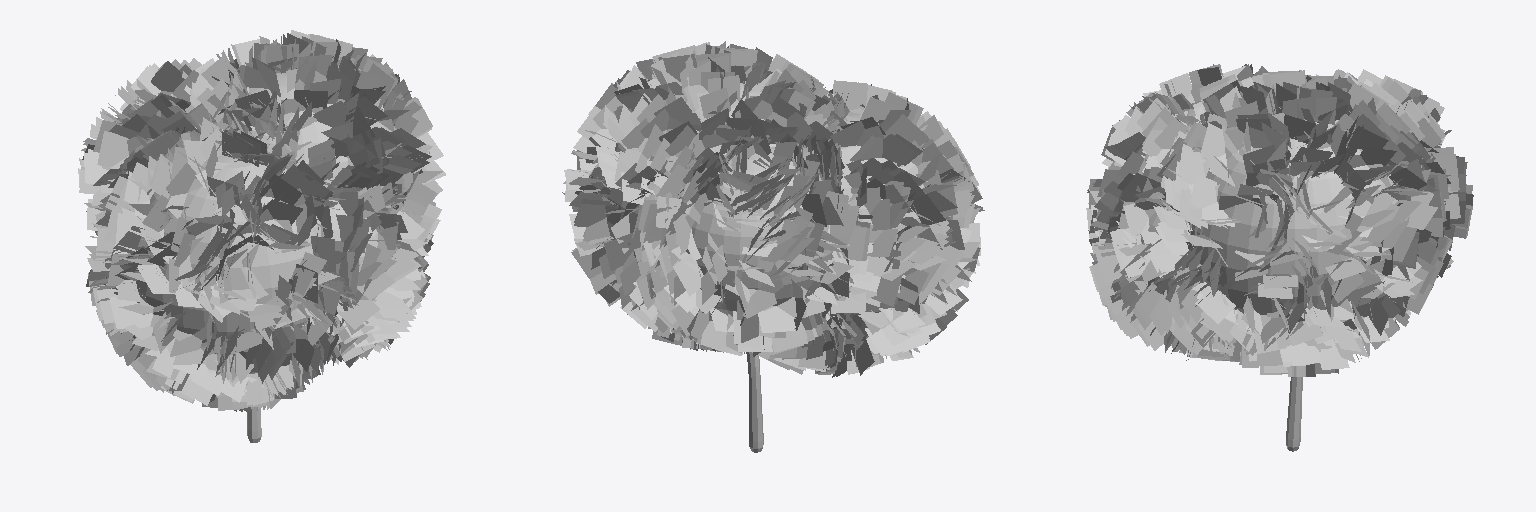
The model's file is Tree1.obj.
The picture shows the model from 3 angles: view 1: azimuth 30°, elevation 25°; view 2: azimuth 150°, elevation 25°; view 3: azimuth 270°, elevation 25°; orthographic projection.
Parts seen in each view (by area): view 1: Leaves, Sphere; view 2: Leaves, Sphere, Cube; view 3: Leaves, Sphere, Cube.
Boxes of the visible parts, <box> form: Leaves: <box>78,30,445,412</box>; Sphere: <box>129,73,413,373</box>; Leaves: <box>562,41,984,377</box>; Sphere: <box>599,83,924,344</box>; Cube: <box>746,352,763,452</box>; Leaves: <box>1086,64,1473,376</box>; Sphere: <box>1140,101,1409,329</box>; Cube: <box>1286,377,1302,451</box>.
Bounding box in the file's own units: 9.7 × 10.18 × 9.25.